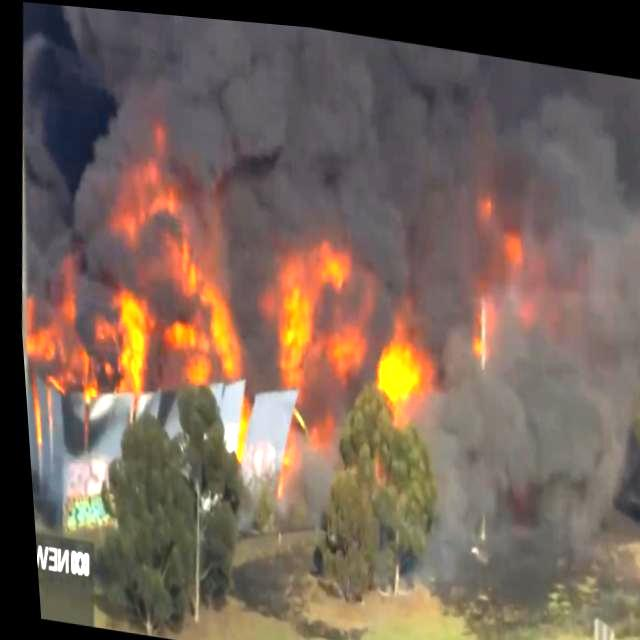fire: (152, 232, 250, 384), (354, 313, 432, 411), (259, 264, 313, 384), (104, 286, 156, 398), (106, 137, 190, 206), (312, 228, 356, 280), (16, 308, 44, 368), (314, 317, 358, 355)
